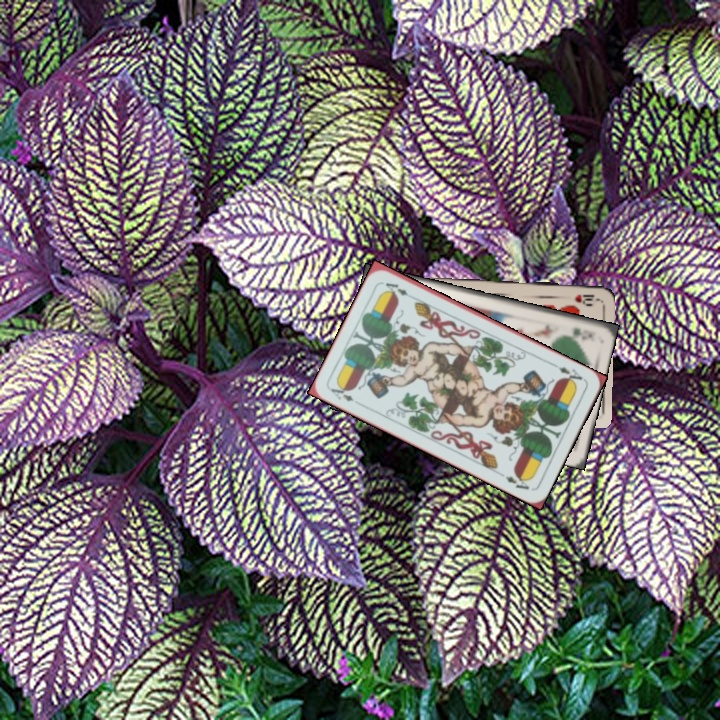EA: (549, 360, 587, 387), (327, 381, 364, 408)
GK: (569, 323, 595, 340)
H10: (571, 290, 600, 304)
